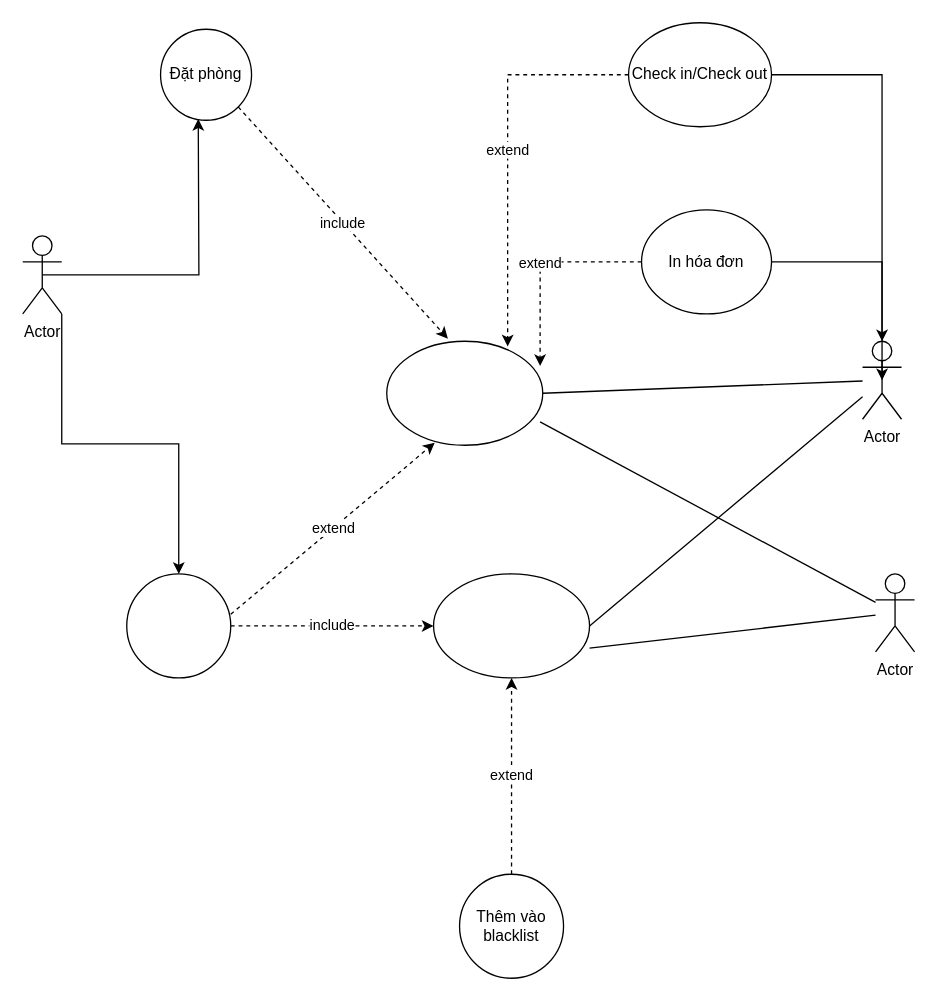
This 937x1001 diagram has some shape labels left out. The shapes that lost their labels are listed below. From the top down, each one's centre as x and y in pixels, then its label:
the point at 464,392: Lập sơ đồ phòng
the point at 178,625: Hủy đặt phòng
the point at 511,625: Hủy hồ sơ đặt phòng
